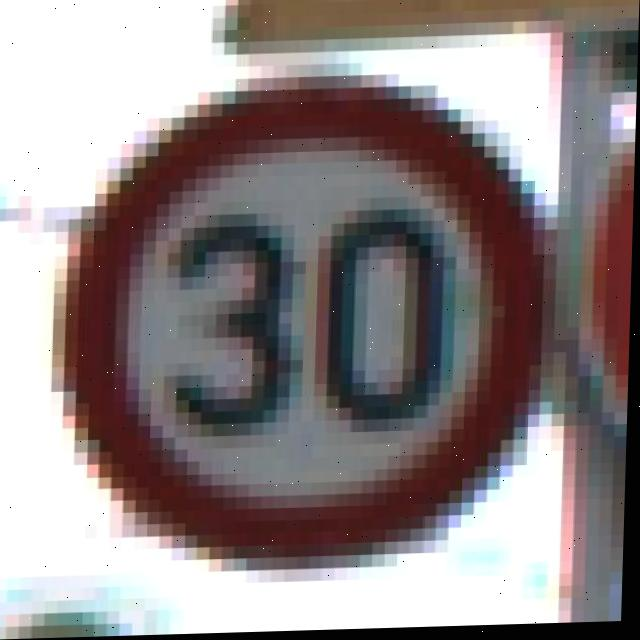Speed limit 30: (54, 71, 555, 578)
